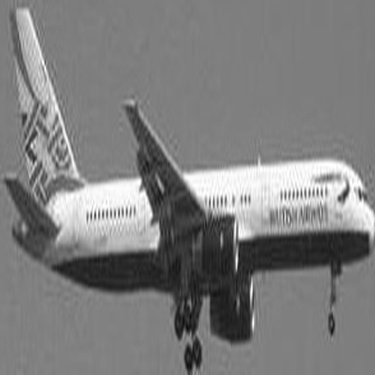airplane: (1, 1, 365, 350)
